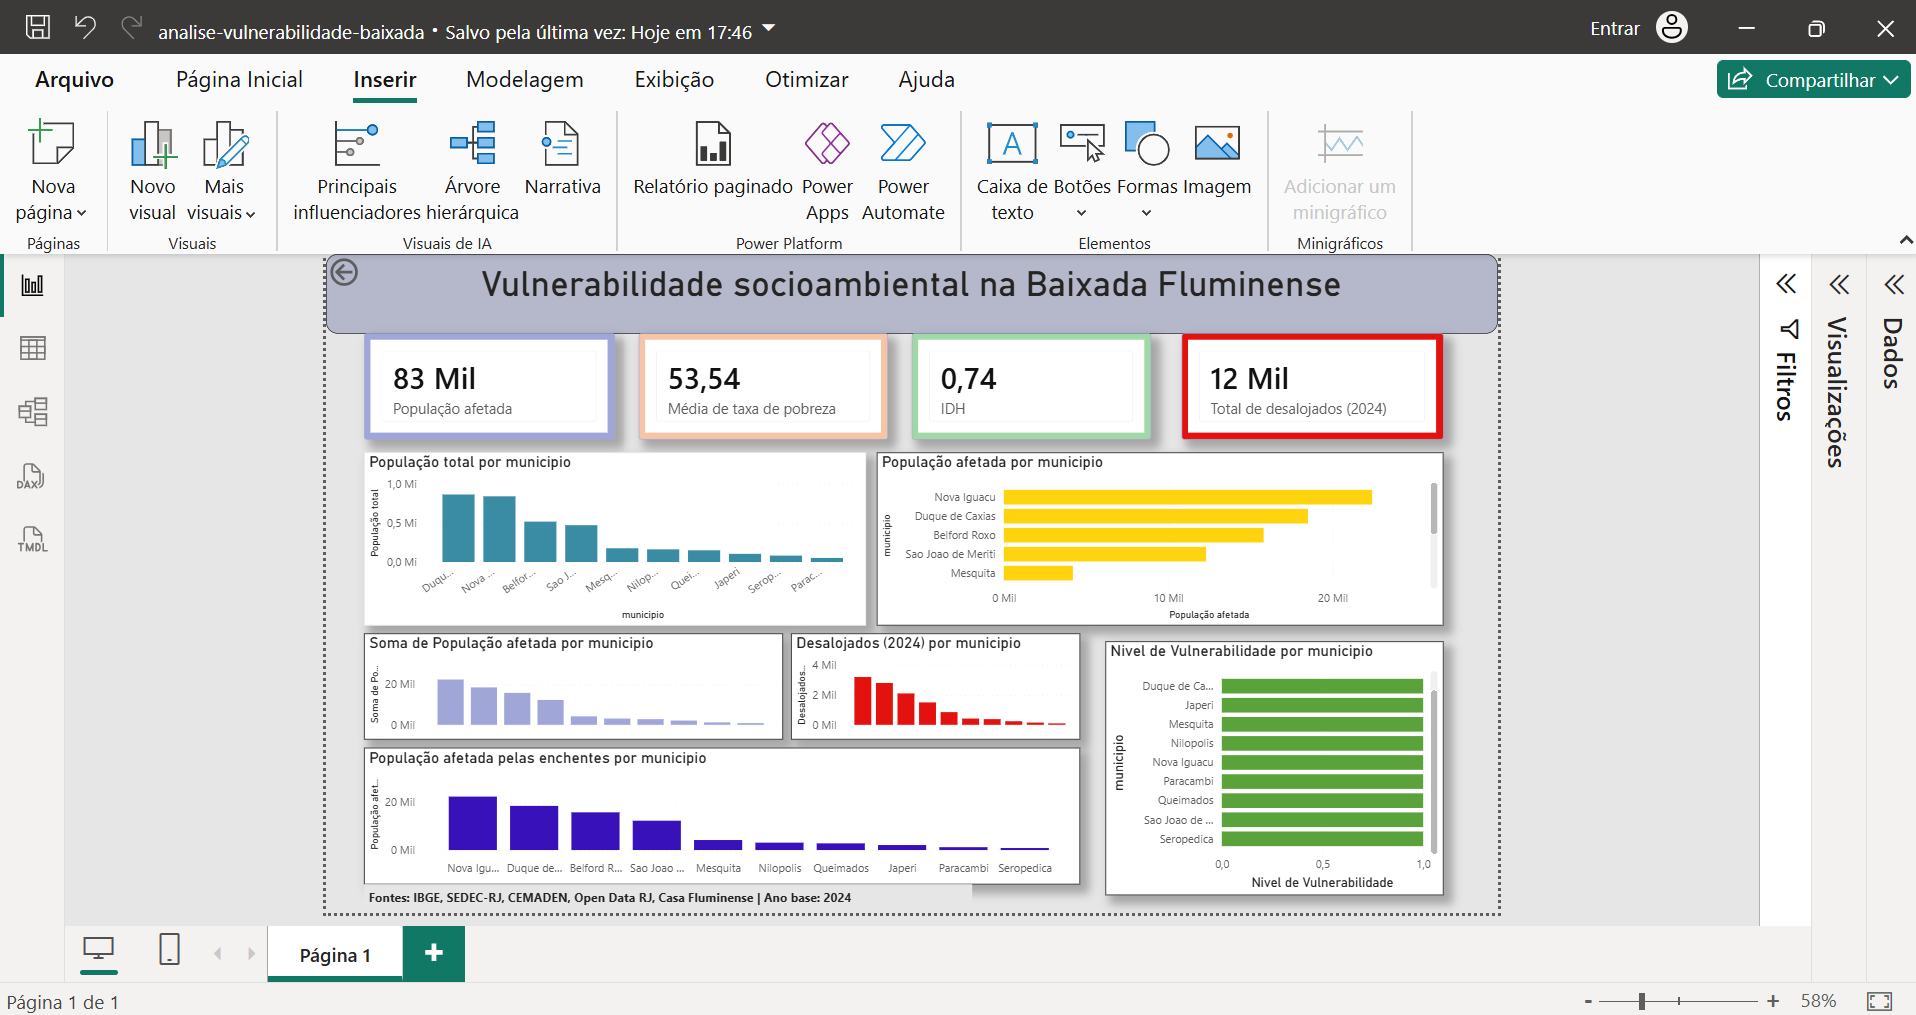

The page's visual inventory and layout, read from the dashboard file:
{"tool":"powerbi","page":{"name":"Página 1","canvas":[1280,720],"ordinal":0},"visuals":[{"type":"textbox","box":[0,0,1279.2,86.7],"z":0},{"type":"cardVisual","fields":{"Data":["Sum(Sheet1.População afetada)"]},"box":[41.6,86.7,273.9,116.1],"z":1000},{"type":"cardVisual","fields":{"Data":["Avg(Sheet1.taxa_pobreza)"]},"box":[341.5,86.7,272.1,116.1],"z":2000},{"type":"cardVisual","fields":{"Data":["Avg(Sheet1.idh)"]},"box":[639.6,86.7,261.7,116.1],"z":3000},{"type":"cardVisual","fields":{"Data":["Sum(Sheet1.desalojados_2024)"]},"box":[934.3,86.7,286,116.1],"z":4000},{"type":"columnChart","fields":{"Y":["Sum(Sheet1.populacao_total)"],"Category":["Sheet1.municipio"]},"box":[41.6,216.7,547.7,188.9],"z":5000},{"type":"clusteredBarChart","fields":{"Category":["Sheet1.municipio"],"Y":["Sum(Sheet1.População afetada)"]},"box":[601.5,216.7,618.8,188.9],"z":6000},{"type":"columnChart","fields":{"Category":["Sheet1.municipio"],"Y":["Sum(Sheet1.População afetada)"]},"box":[41.6,414.3,457.6,116.1],"z":7000},{"type":"columnChart","fields":{"Category":["Sheet1.municipio"],"Y":["Sum(Sheet1.desalojados_2024)"]},"box":[507.9,414.3,315.5,116.1],"z":8000},{"type":"actionButton","box":[0,0,100,40],"z":9000},{"type":"columnChart","fields":{"Category":["Sheet1.municipio"],"Y":["Sum(Sheet1.População afetada)"]},"box":[41.6,539.1,781.7,149.1],"z":10000},{"type":"clusteredBarChart","fields":{"Category":["Sheet1.municipio"],"Y":["CountNonNull(Sheet1.Nivel_Vulnerabilidade)"]},"box":[851.1,422.9,369.2,277.3],"z":11000},{"type":"textbox","box":[41.6,688.1,663.9,31.2],"z":11001}]}

Visuals, with their boxes on the page's 1280x720 design canvas (x1, y1, x2, y2). These are canvas units, not pixel positions in the 1916x1015 screenshot, which may show the page scaled, cropped or inside an application window:
textbox: [left=0, top=0, right=1279, bottom=87]
cardVisual - Sum(Sheet1.População afetada): [left=42, top=87, right=316, bottom=203]
cardVisual - Avg(Sheet1.taxa_pobreza): [left=342, top=87, right=614, bottom=203]
cardVisual - Avg(Sheet1.idh): [left=640, top=87, right=901, bottom=203]
cardVisual - Sum(Sheet1.desalojados_2024): [left=934, top=87, right=1220, bottom=203]
columnChart - Sum(Sheet1.populacao_total) x Sheet1.municipio: [left=42, top=217, right=589, bottom=406]
clusteredBarChart - Sheet1.municipio x Sum(Sheet1.População afetada): [left=602, top=217, right=1220, bottom=406]
columnChart - Sheet1.municipio x Sum(Sheet1.População afetada): [left=42, top=414, right=499, bottom=530]
columnChart - Sheet1.municipio x Sum(Sheet1.desalojados_2024): [left=508, top=414, right=823, bottom=530]
actionButton: [left=0, top=0, right=100, bottom=40]
columnChart - Sheet1.municipio x Sum(Sheet1.População afetada): [left=42, top=539, right=823, bottom=688]
clusteredBarChart - Sheet1.municipio x CountNonNull(Sheet1.Nivel_Vulnerabilidade): [left=851, top=423, right=1220, bottom=700]
textbox: [left=42, top=688, right=706, bottom=719]
